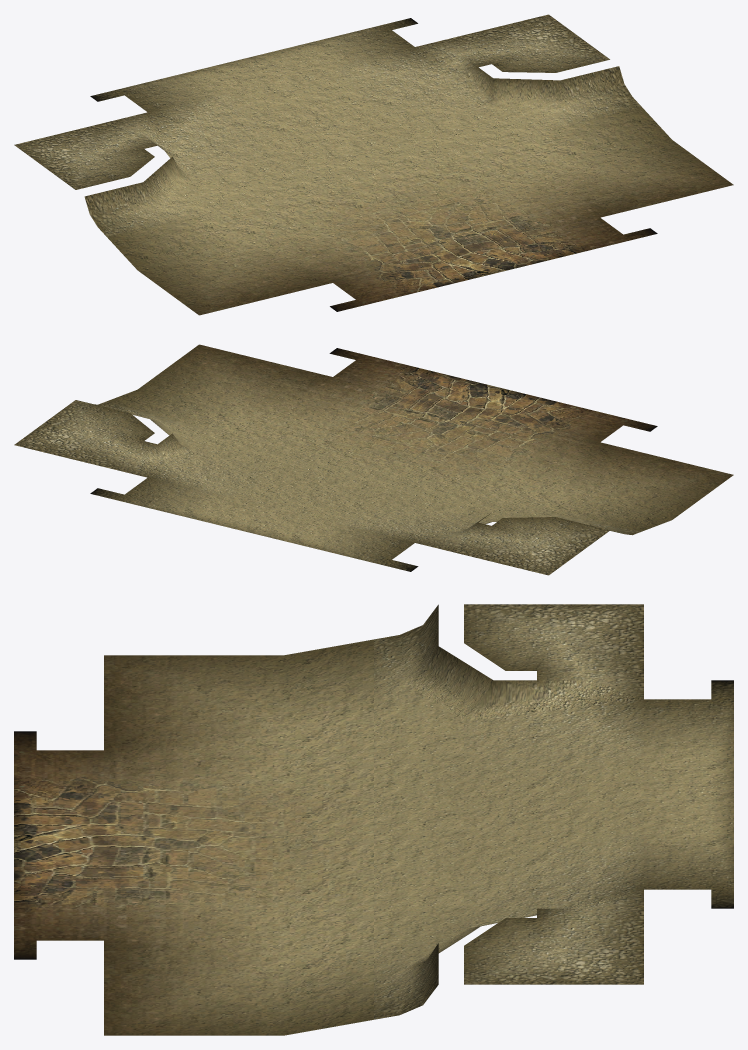
File: Mission12_MainGate_Landscape.glb
3 views of the same model, one above another, from view 1: azimuth 30°, elevation 25°; view 2: azimuth 150°, elevation 25°; view 3: azimuth 270°, elevation 25° (orthographic). The views are drawn at different scales.
Visible parts, largest first — view 1: MISSION12_MAINGATE_LANDSCAPE004, MISSION12_MAINGATE_LANDSCAPE001, MISSION12_MAINGATE_LANDSCAPE003, MISSION12_MAINGATE_LANDSCAPE, MISSION12_MAINGATE_LANDSCAPE005, MISSION12_MAINGATE_LANDSCAPE002; view 2: MISSION12_MAINGATE_LANDSCAPE001, MISSION12_MAINGATE_LANDSCAPE, MISSION12_MAINGATE_LANDSCAPE004, MISSION12_MAINGATE_LANDSCAPE003, MISSION12_MAINGATE_LANDSCAPE002, MISSION12_MAINGATE_LANDSCAPE005; view 3: MISSION12_MAINGATE_LANDSCAPE001, MISSION12_MAINGATE_LANDSCAPE004, MISSION12_MAINGATE_LANDSCAPE003, MISSION12_MAINGATE_LANDSCAPE, MISSION12_MAINGATE_LANDSCAPE002, MISSION12_MAINGATE_LANDSCAPE005.
Boxes of the visible parts, x1,y1,x2,y2 form: MISSION12_MAINGATE_LANDSCAPE004: (197, 18, 533, 188); MISSION12_MAINGATE_LANDSCAPE001: (320, 135, 657, 285); MISSION12_MAINGATE_LANDSCAPE003: (14, 70, 319, 236); MISSION12_MAINGATE_LANDSCAPE: (107, 188, 443, 315); MISSION12_MAINGATE_LANDSCAPE005: (442, 14, 640, 135); MISSION12_MAINGATE_LANDSCAPE002: (535, 106, 733, 210); MISSION12_MAINGATE_LANDSCAPE001: (214, 348, 550, 483); MISSION12_MAINGATE_LANDSCAPE: (428, 400, 733, 531); MISSION12_MAINGATE_LANDSCAPE004: (90, 430, 426, 545); MISSION12_MAINGATE_LANDSCAPE003: (304, 483, 640, 575); MISSION12_MAINGATE_LANDSCAPE002: (107, 344, 305, 430); MISSION12_MAINGATE_LANDSCAPE005: (14, 400, 212, 470); MISSION12_MAINGATE_LANDSCAPE001: (14, 797, 373, 959); MISSION12_MAINGATE_LANDSCAPE004: (374, 756, 733, 948); MISSION12_MAINGATE_LANDSCAPE003: (374, 604, 733, 797); MISSION12_MAINGATE_LANDSCAPE: (14, 639, 373, 807); MISSION12_MAINGATE_LANDSCAPE002: (104, 948, 373, 1035); MISSION12_MAINGATE_LANDSCAPE005: (374, 908, 643, 1019).
Size of the model in its own units: 20 by 1.25 by 16.
Materials: 9 (9 with a texture image).
